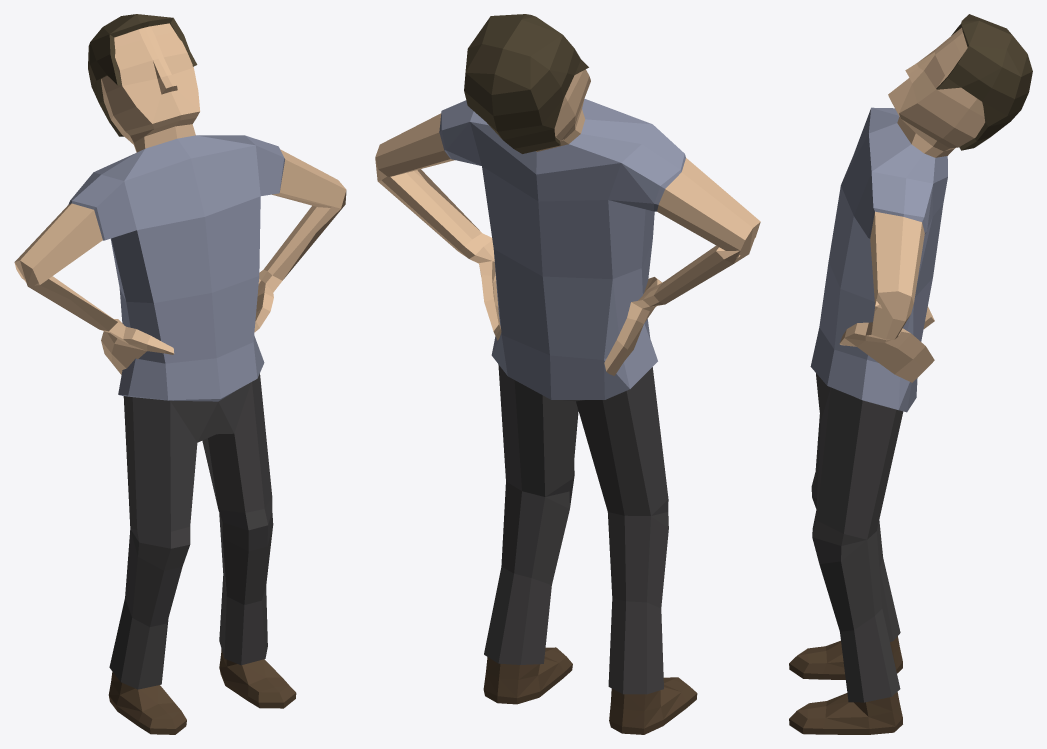
Rendered from Male_LookingUp.glb.
3 renders of one model, left to right at view 1: azimuth 30°, elevation 25°; view 2: azimuth 150°, elevation 25°; view 3: azimuth 270°, elevation 25°, orthographic. The views are drawn at different scales.
Visible parts, largest first — view 1: Male_LookingUp; view 2: Male_LookingUp; view 3: Male_LookingUp.
Boxes of the visible parts, box(x1,y1,x2,y2) form: Male_LookingUp: box(14, 14, 346, 734); Male_LookingUp: box(375, 14, 760, 734); Male_LookingUp: box(789, 14, 1032, 734).
Size of the model in its own units: 0.9226 by 1.73 by 0.5652.
